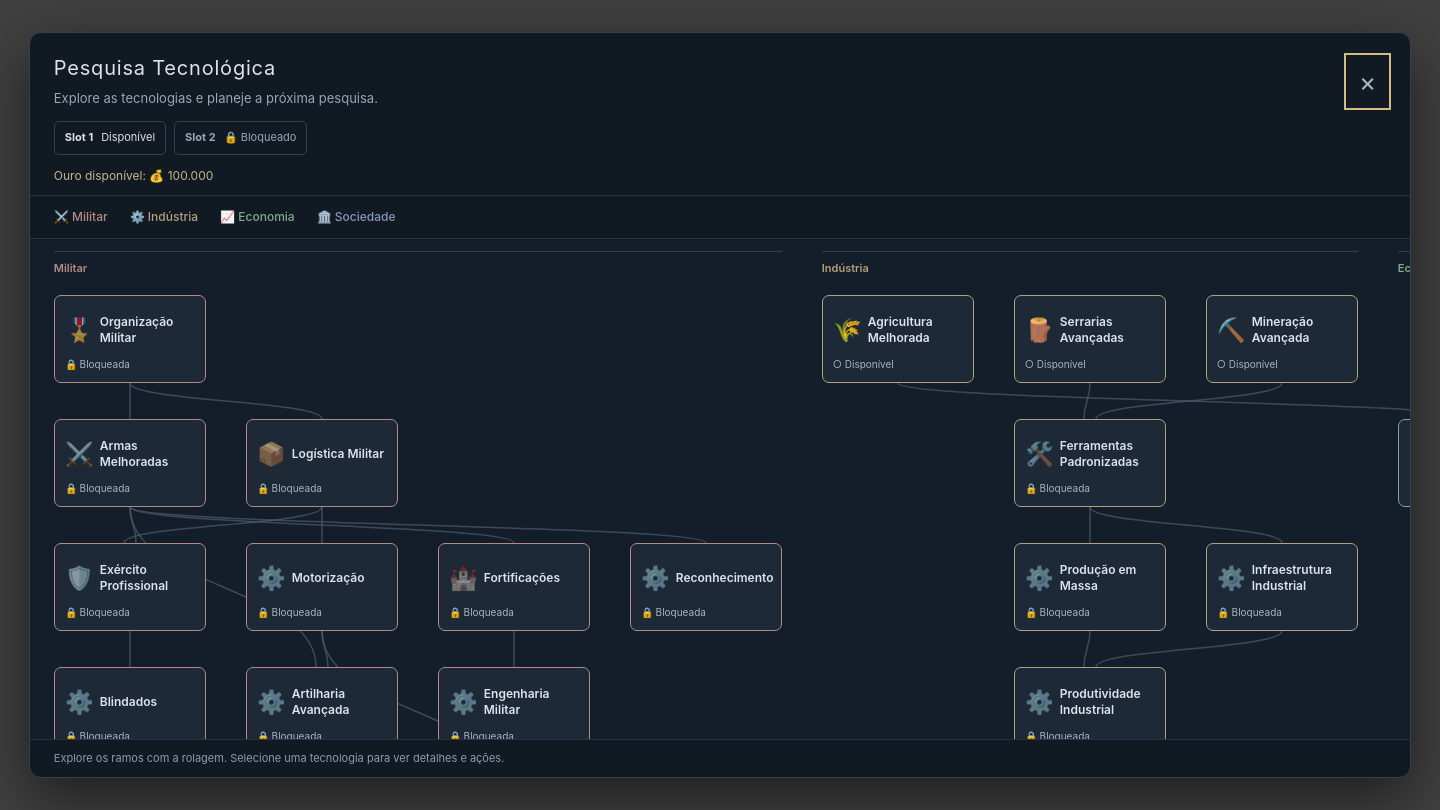
Scenario: Research UI V2 › uses canonical validation instead of duplicating availability rules
The width and height of the screenshot is (1440, 810).
Click the button "🎖️ Organização Militar 🔒 Bloqueada".
click(130, 339)  # box [54, 295, 206, 383]
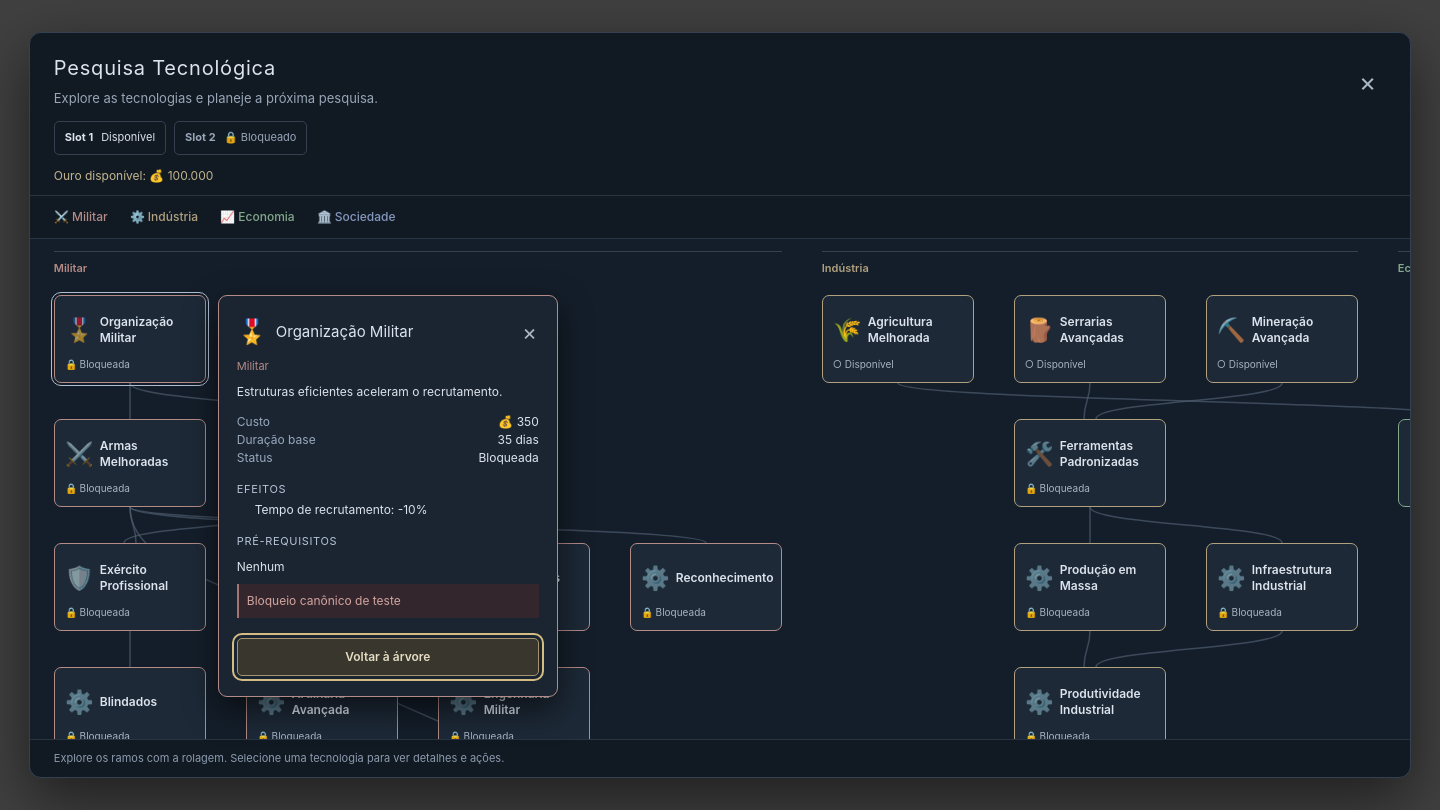
Now the text "Bloqueio canônico de teste" is shown, box [237, 584, 539, 618]
